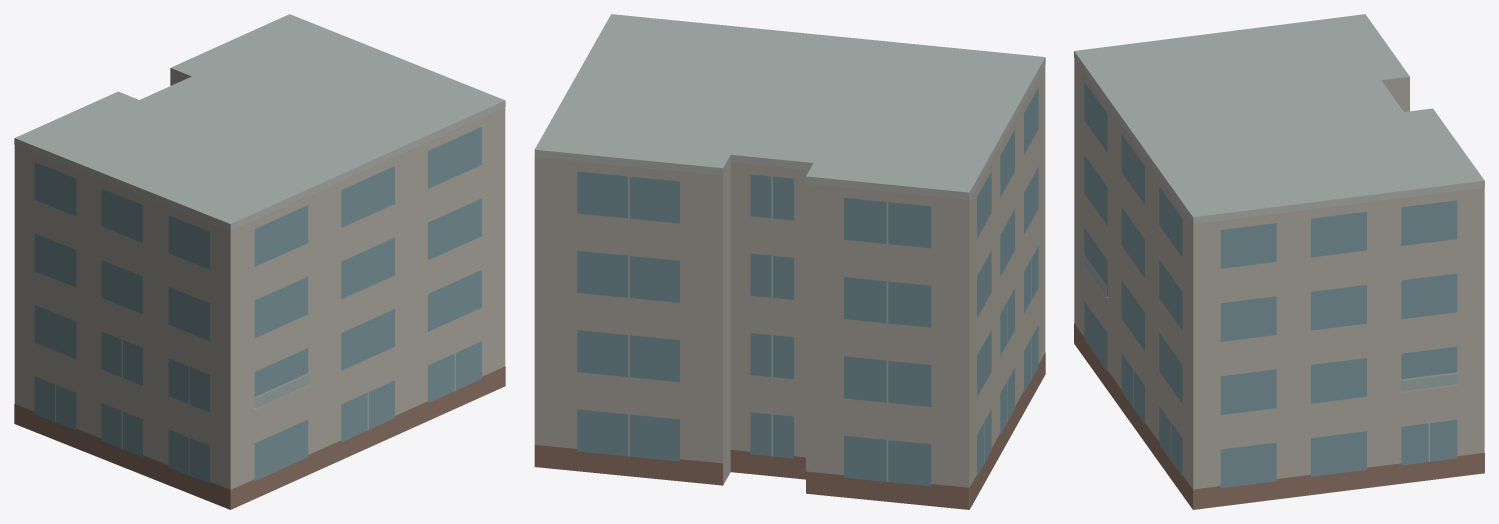
Rendered from survey-upis-32622143.glb.
The picture shows the model from 3 angles, left to right: view 1: azimuth 30°, elevation 25°; view 2: azimuth 150°, elevation 25°; view 3: azimuth 270°, elevation 25°; orthographic projection. The views are drawn at different scales.
Parts seen in each view (by area): view 1: survey-upis-32622143.tmp; view 2: survey-upis-32622143.tmp; view 3: survey-upis-32622143.tmp.
Part boxes in pixels (x1=…): survey-upis-32622143.tmp: x1=14, y1=14, x2=505, y2=509; survey-upis-32622143.tmp: x1=534, y1=14, x2=1045, y2=509; survey-upis-32622143.tmp: x1=1074, y1=14, x2=1484, y2=509.
Bounding box in the file's own units: 15.51 × 10.4 × 13.24.
